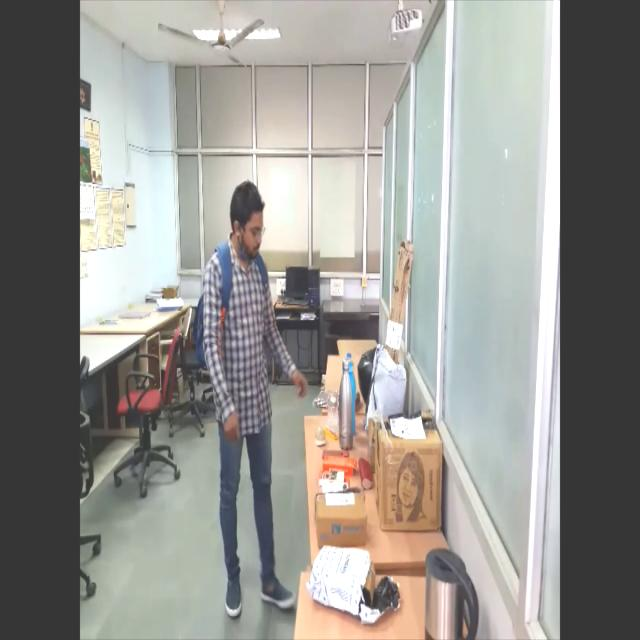normal: (194, 179, 311, 640)
